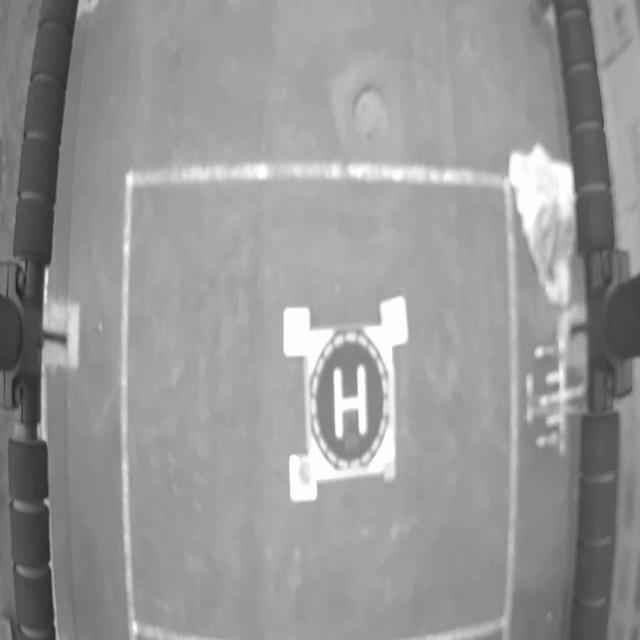Helipad: (332, 363, 367, 441)
